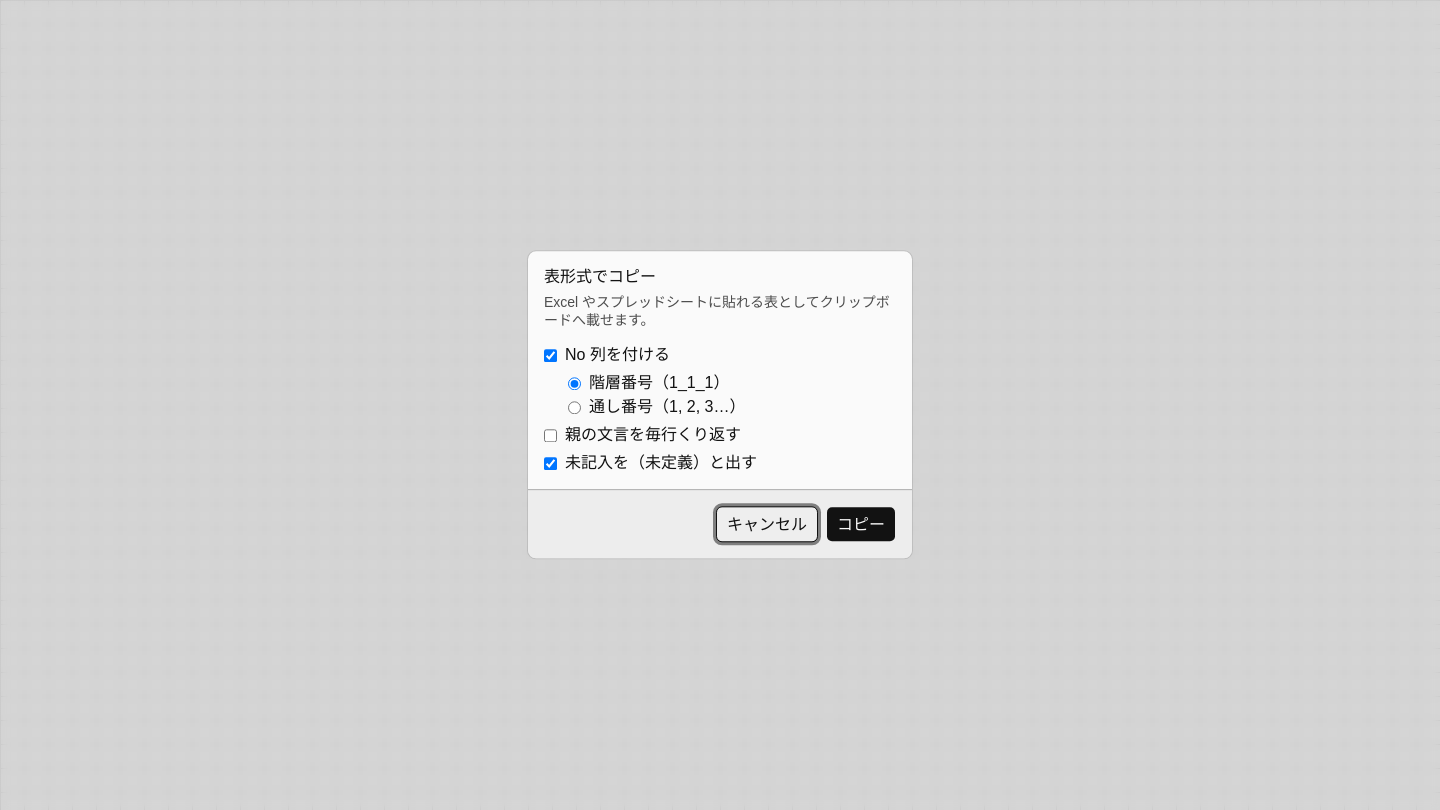
Test: TableCopyDialog: No 列と形式の連動 › No 列オフなら形式のラジオが不活性になる（選ばせても効かない設定を押させない）
Click the checkbox labelled "No 列を付ける" at (550,356), box [544,349,557,362]
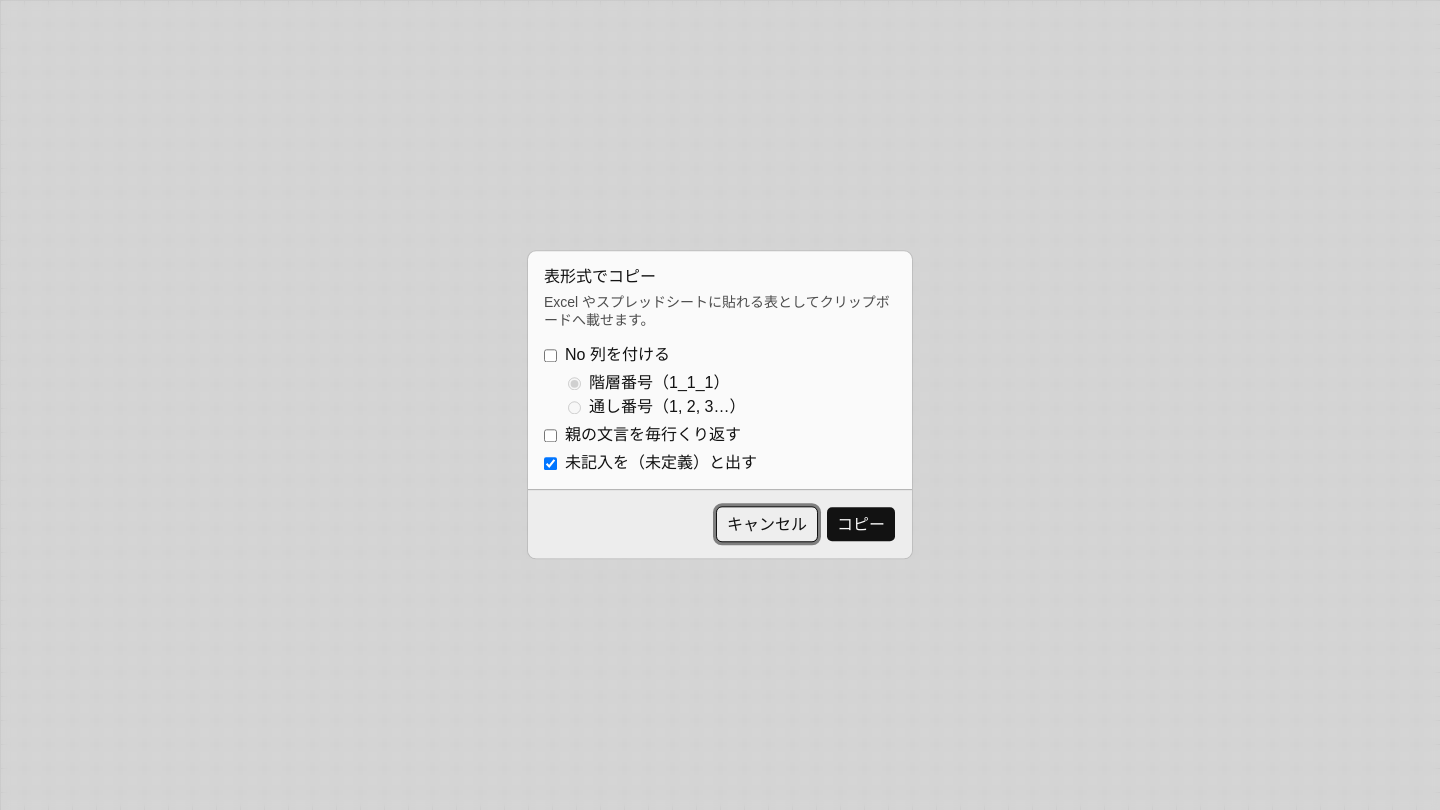
Now the radio button labelled "階層番号（1_1_1）" is disabled, box [568,377,581,390]
